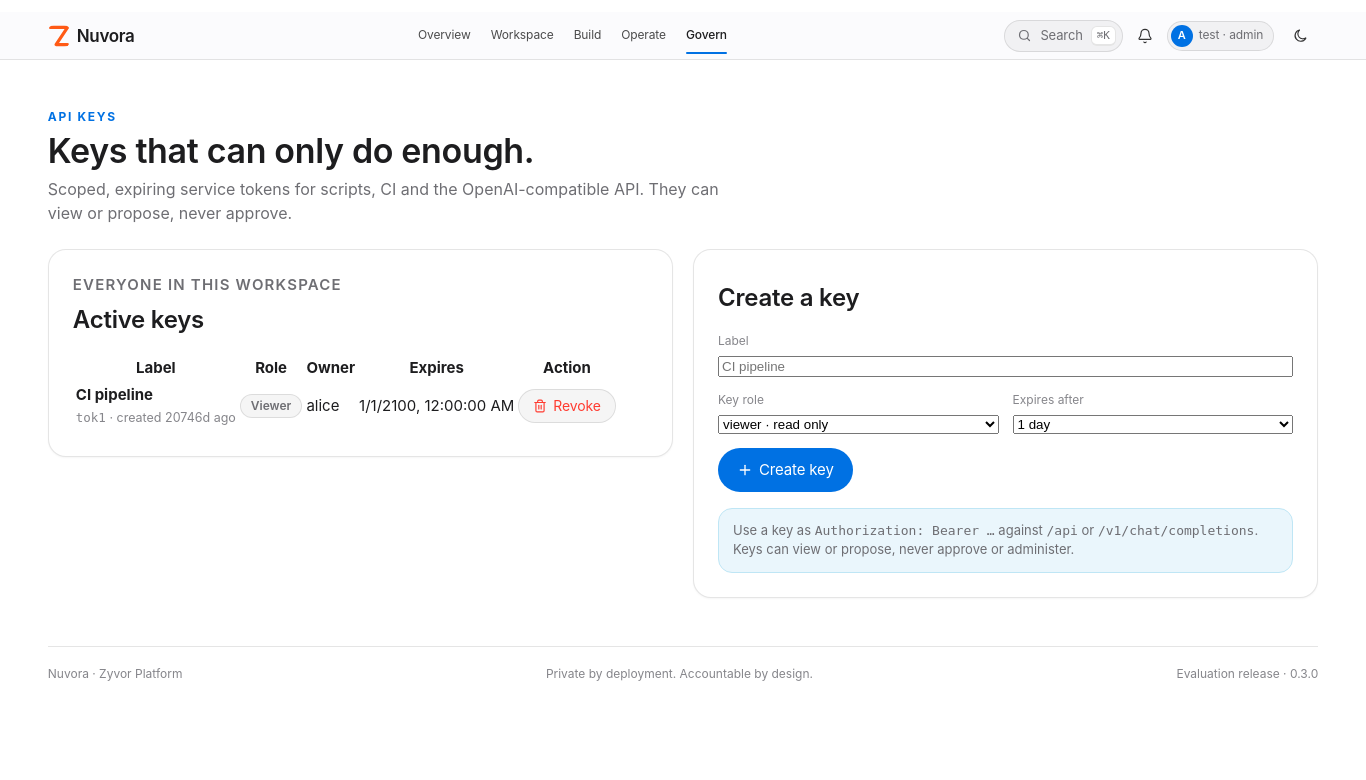
console workflows › lists API keys and signs out from the profile menu
Expected: the text "CI pipeline" is shown, [76,385,153,404]
Click the button with aria-label "Account". click: {"x": 1221, "y": 36}
box: [1167,20,1274,50]
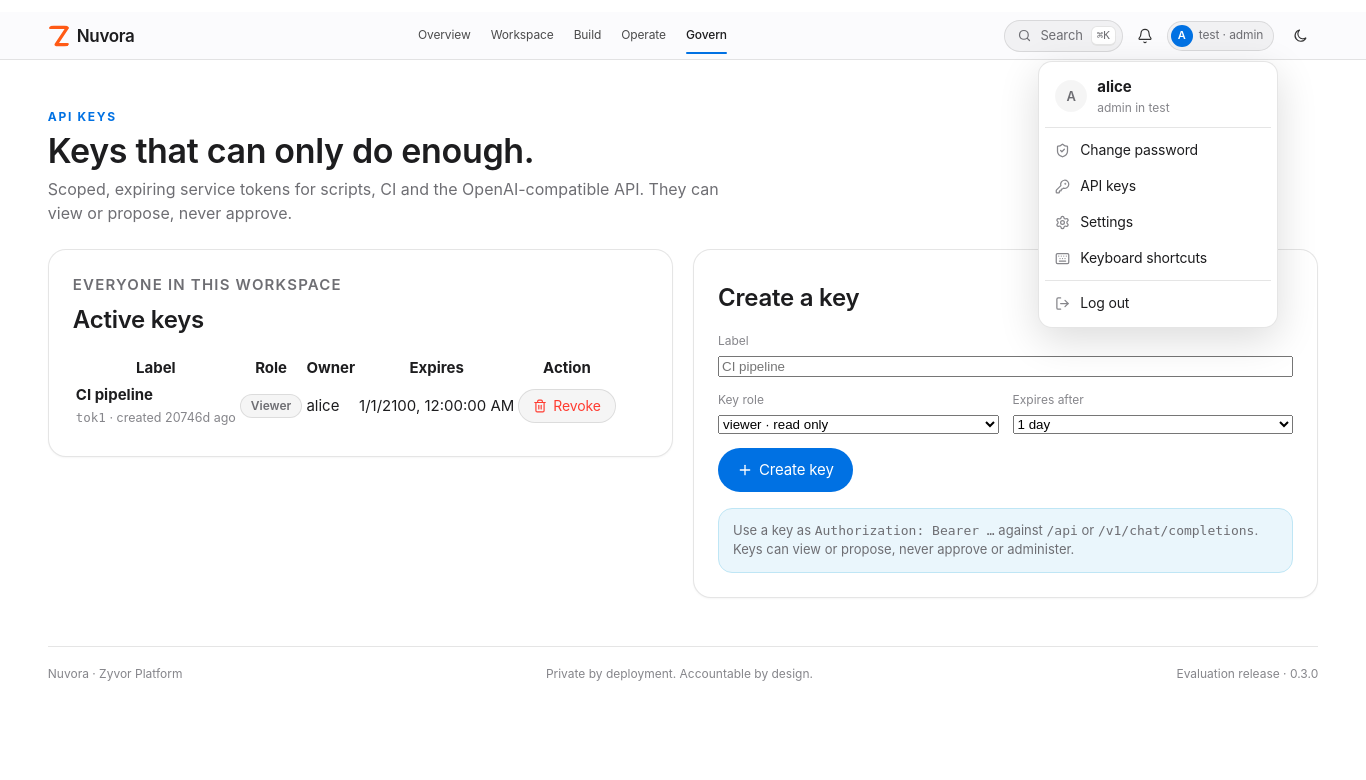
Click the menu item "Log out". click: {"x": 1158, "y": 303}
box: [1045,285,1271,321]
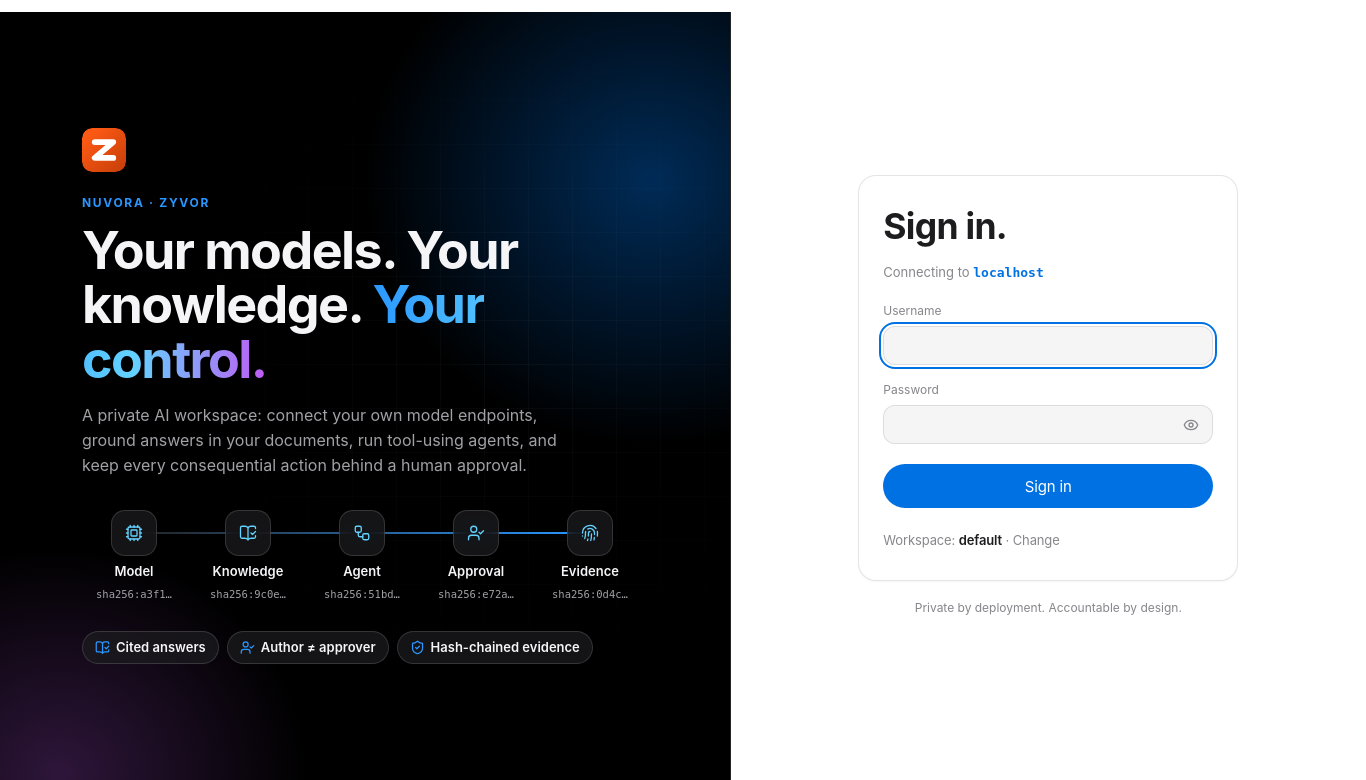
Expected: the heading "Sign in." is shown, [883,205,1007,248]
